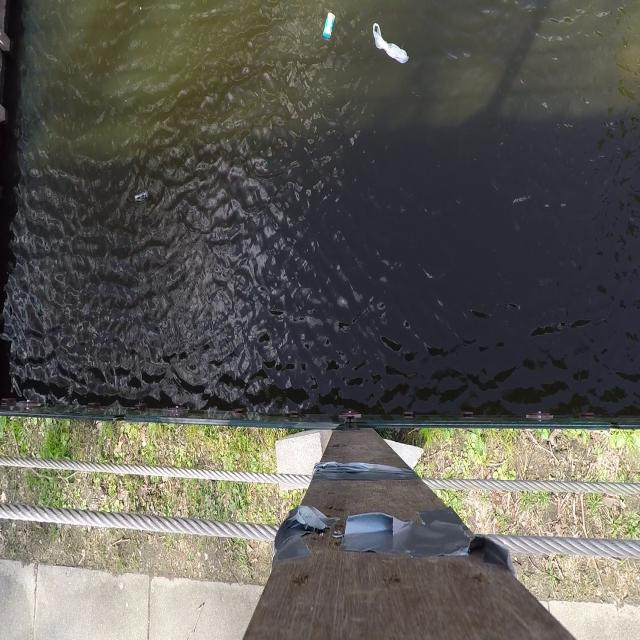Non plastique: (318, 8, 338, 42)
Sac plastique: (370, 15, 412, 68)
